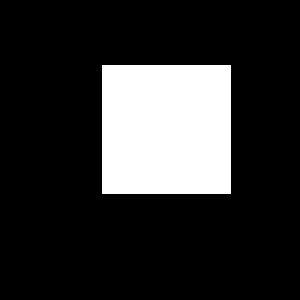circle: (102, 65, 231, 194)
